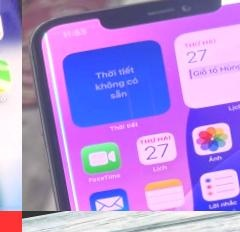screen_defect: (48, 162, 100, 211), (43, 99, 83, 139), (45, 133, 90, 168), (40, 62, 74, 105), (34, 28, 71, 66)
